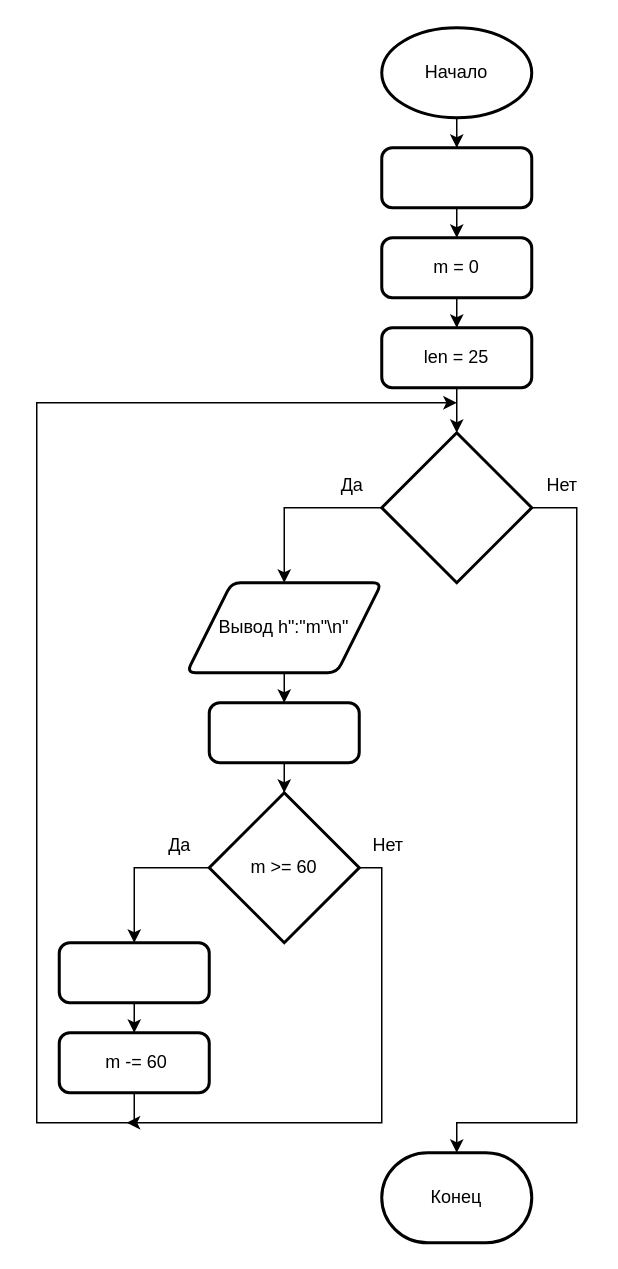
Some shapes in this 618 by 1269 pixel diagram are drawn without their labels. The centre of each missing label's shape, as x and y in pixels:
"h += m / 60" goes at (x=133, y=972).
"h < 23" goes at (x=456, y=507).
"h = 6" goes at (x=456, y=177).
"m += len" goes at (x=283, y=732).
